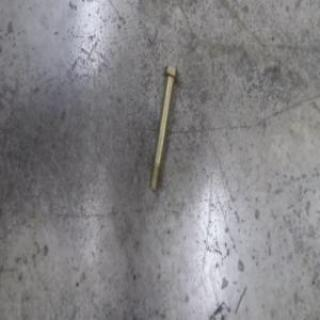Bolttrack_idkeyframe: (148, 64, 179, 192)
